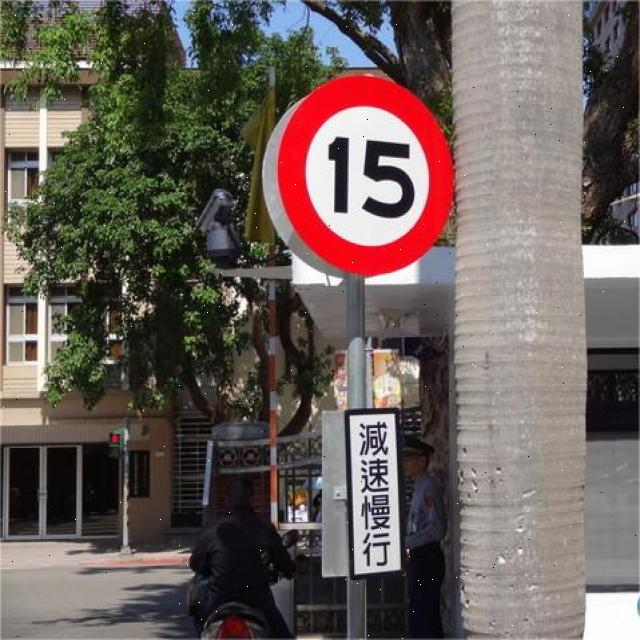speed limit 20: (277, 76, 454, 274)
